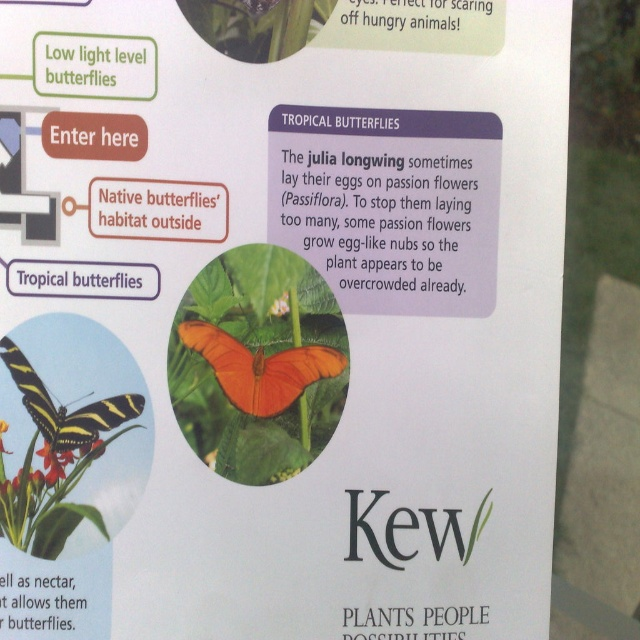Butterfly: (173, 258, 341, 481), (0, 334, 147, 451)
